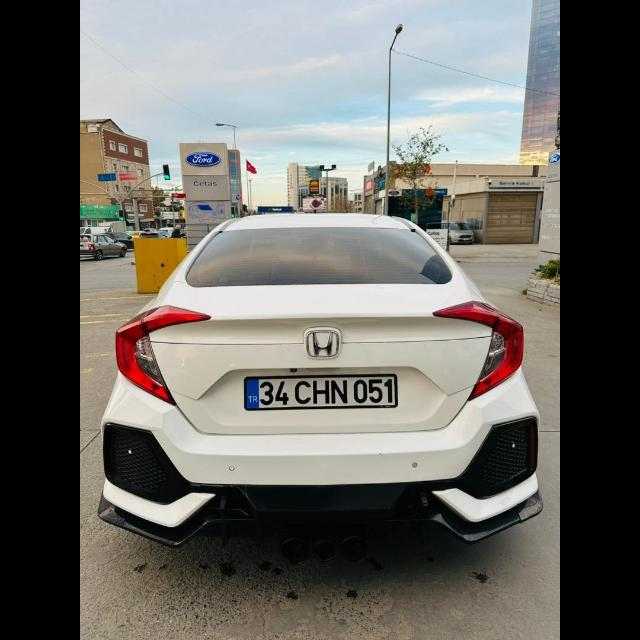Plaka: (244, 374, 396, 406)
